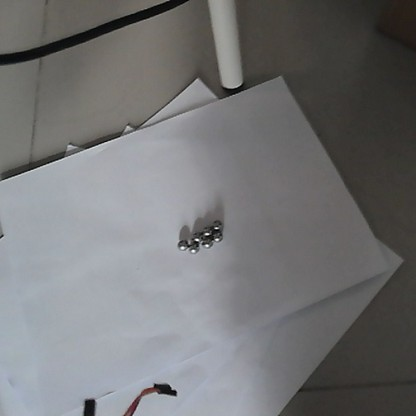ironball: (189, 231, 203, 245), (173, 237, 187, 251), (211, 218, 224, 232), (199, 224, 212, 237), (187, 242, 199, 256), (211, 231, 222, 243), (200, 237, 211, 249)
